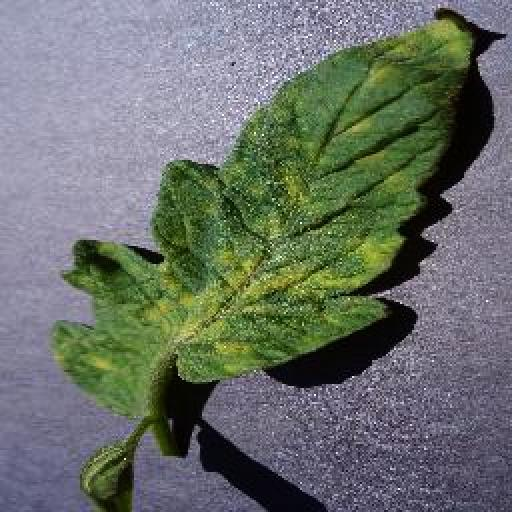disease_tomato: (54, 9, 478, 415)
